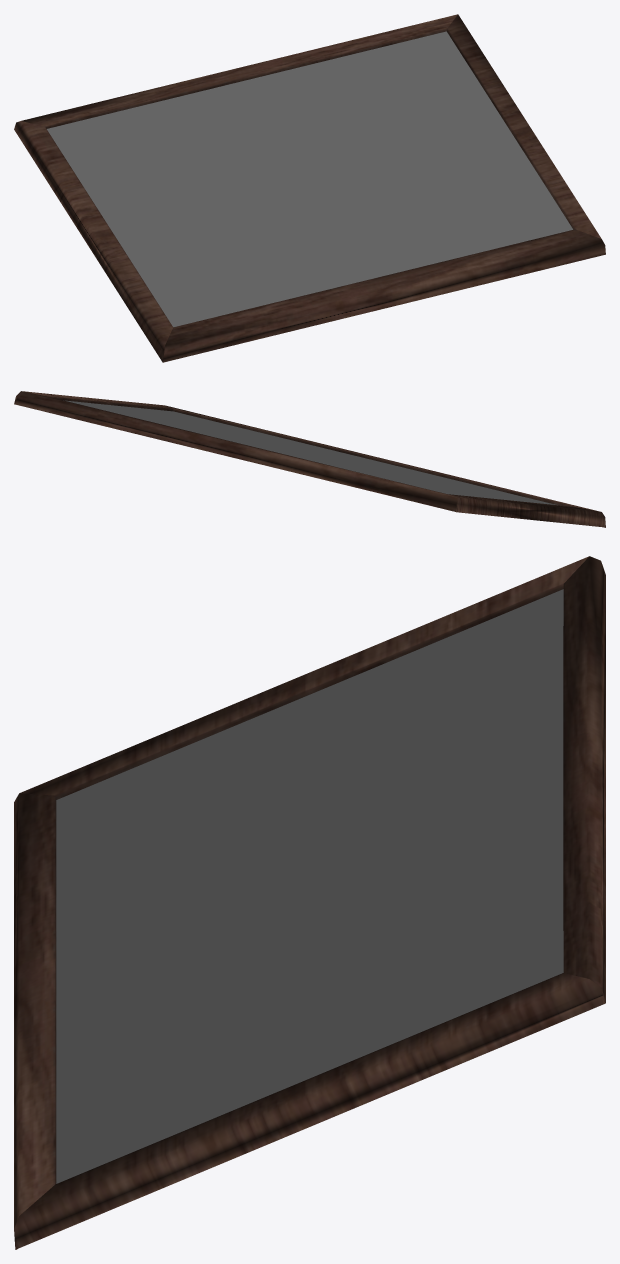
The model's file is flatcase_toponly.gltf.
The picture shows the model from 3 angles, top to bottom: view 1: azimuth 30°, elevation 25°; view 2: azimuth 150°, elevation 25°; view 3: azimuth 270°, elevation 25°; orthographic projection. The views are drawn at different scales.
Parts seen in each view (by area): view 1: defaultMaterial.003, defaultMaterial.002; view 2: defaultMaterial.002, defaultMaterial.003; view 3: defaultMaterial.003, defaultMaterial.002.
Boxes of the visible parts, left/top/right/bottom form: defaultMaterial.003: left=47, top=31, right=572, bottom=327; defaultMaterial.002: left=14, top=14, right=605, bottom=362; defaultMaterial.002: left=14, top=391, right=605, bottom=527; defaultMaterial.003: left=63, top=400, right=557, bottom=505; defaultMaterial.003: left=56, top=589, right=563, bottom=1183; defaultMaterial.002: left=14, top=556, right=605, bottom=1249.
Bounding box in the file's own units: 4.81 × 1.4 × 2.81.
2 materials, 2 textured.
